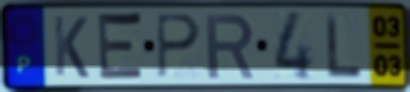4: (271, 9, 318, 83)
E: (96, 9, 147, 84)
K: (51, 14, 91, 81)
L: (323, 11, 364, 81)
P: (154, 12, 203, 81)
R: (204, 12, 257, 81)
